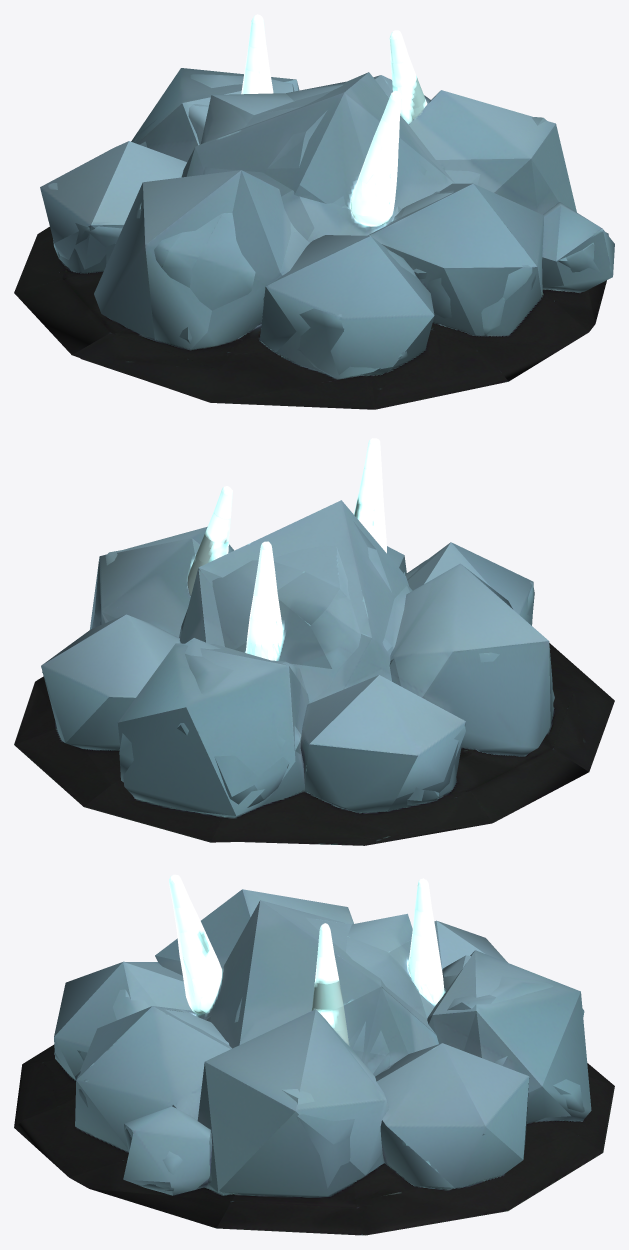
File: ore-node.glb
3 views of the same model, one above another, from view 1: azimuth 30°, elevation 25°; view 2: azimuth 150°, elevation 25°; view 3: azimuth 270°, elevation 25° (orthographic). The views are drawn at different scales.
Bounding box in the file's own units: 1 × 0.4814 × 1.
1 material, 1 textured.
